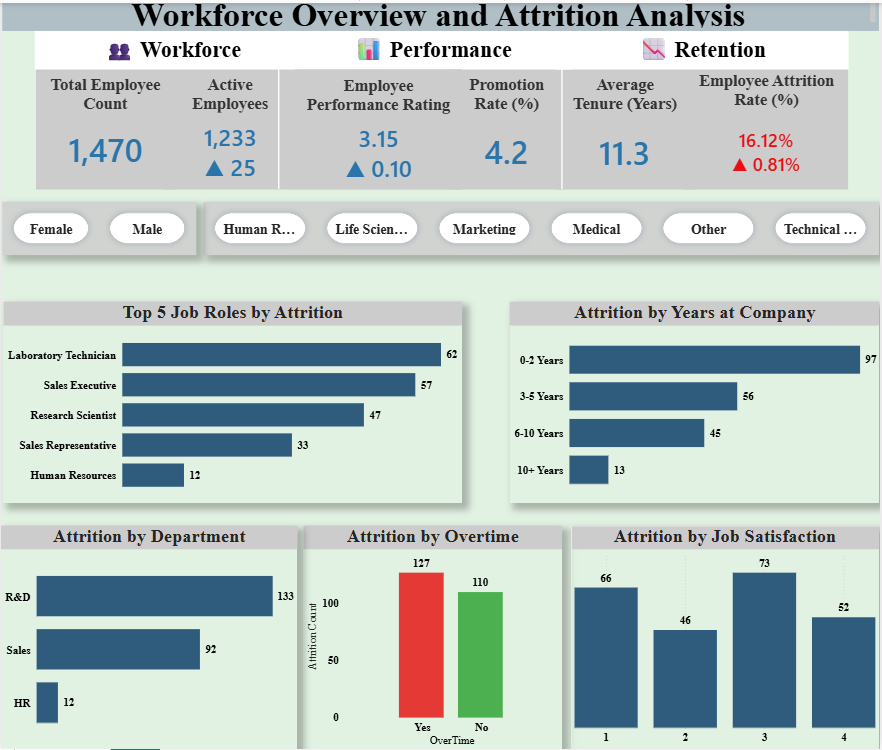

The page's visual inventory and layout, read from the dashboard file:
{"tool":"powerbi","page":{"name":"Page 1","canvas":[1280,1100],"ordinal":0},"visuals":[{"type":"cardVisual","title":"Promotion Rate (%)","fields":{"Data":["Avg(employee.YearsInCurrentRole)"]},"box":[656.7,108.3,158.3,176.7],"z":0},{"type":"cardVisual","title":"Average Tenure (Years)","fields":{"Data":["Avg(employee.TotalWorkingYears)"]},"box":[807.3,108.7,200.9,176.9],"z":1000},{"type":"advancedSlicerVisual","fields":{"Values":["employee.EducationField"]},"box":[294.9,304.1,984.3,77.4],"z":2000},{"type":"clusteredColumnChart","title":"Attrition by Overtime","fields":{"Category":["employee.OverTime"],"Y":["employee.Attrition Count"]},"box":[440.5,774.1,376,326.2],"z":3000},{"type":"clusteredBarChart","title":"Attrition by Department","fields":{"Category":["employee.Department_Short"],"Y":["employee.Attrition Count"]},"box":[0,774.1,431.3,326.2],"z":4000},{"type":"clusteredBarChart","title":"Top 5 Job Roles by Attrition","fields":{"Category":["employee.JobRole"],"Y":["employee.Attrition Count"]},"box":[3.7,449.7,667.2,293.1],"z":5000},{"type":"cardVisual","title":"Employee Attrition Rate (%)","fields":{"Data":["employee.Attrition KPI Display"]},"box":[995.3,108.7,237.8,176.9],"z":6000},{"type":"card","title":"Total Employee Count","fields":{"Values":["Sum(employee.EmployeeCount)"]},"box":[51.7,108.3,201.7,176.7],"z":7000},{"type":"card","title":"Active Employees","fields":{"Values":["employee.Active Employees KPI Display"]},"box":[238.3,108.3,190,176.7],"z":8000},{"type":"textbox","box":[49.8,55.3,401.8,57.1],"z":9000},{"type":"textbox","box":[427.6,55.3,401.8,57.1],"z":10000},{"type":"textbox","box":[807.3,55.3,425.8,57.1],"z":11000},{"type":"shape","box":[379.7,46.1,47.9,239.6],"z":12000},{"type":"shape","box":[783.3,46.1,64.5,239.6],"z":13000},{"type":"card","title":"Employee Performance Rating","fields":{"Values":["employee.Performance_KPI_Display"]},"box":[427.6,110.6,243.3,175.1],"z":14000},{"type":"advancedSlicerVisual","fields":{"Values":["employee.Gender"]},"box":[1.8,304.1,282,77.4],"z":15000},{"type":"clusteredColumnChart","title":"Attrition by Job Satisfaction","fields":{"Category":["employee.JobSatisfaction"],"Y":["employee.Attrition Count"]},"box":[829.4,774.1,447.9,326.2],"z":16000},{"type":"clusteredBarChart","title":"Attrition by Years at Company","fields":{"Category":["employee.Years_Group"],"Y":["employee.Attrition Count"]},"box":[739.1,449.7,538.2,293.1],"z":17000},{"type":"textbox","box":[1.8,0,1275.5,55.3],"z":18000}]}

Visuals, with their boxes in screenshot pixels (x1, y1, x2, y2), scaled from the page's 1280x1100 canvas onto the 882x750 screenshot:
"Promotion Rate (%)" cardVisual: region(453, 74, 562, 194)
"Average Tenure (Years)" cardVisual: region(556, 74, 695, 195)
advancedSlicerVisual - employee.EducationField: region(203, 207, 881, 260)
"Attrition by Overtime" clusteredColumnChart: region(304, 528, 563, 749)
"Attrition by Department" clusteredBarChart: region(0, 528, 297, 749)
"Top 5 Job Roles by Attrition" clusteredBarChart: region(3, 307, 462, 506)
"Employee Attrition Rate (%)" cardVisual: region(686, 74, 850, 195)
"Total Employee Count" card: region(36, 74, 175, 194)
"Active Employees" card: region(164, 74, 295, 194)
textbox: region(34, 38, 311, 77)
textbox: region(295, 38, 572, 77)
textbox: region(556, 38, 850, 77)
shape: region(262, 31, 295, 195)
shape: region(540, 31, 584, 195)
"Employee Performance Rating" card: region(295, 75, 462, 195)
advancedSlicerVisual - employee.Gender: region(1, 207, 196, 260)
"Attrition by Job Satisfaction" clusteredColumnChart: region(572, 528, 880, 749)
"Attrition by Years at Company" clusteredBarChart: region(509, 307, 880, 506)
textbox: region(1, 0, 880, 38)
